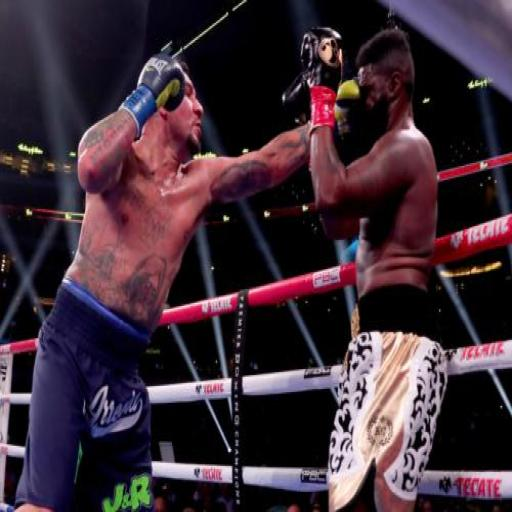boxing: (0, 33, 358, 510)
